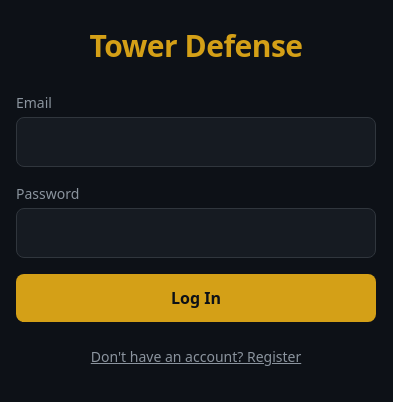
Test case: Login › displays the error message when login fails
Type "alice@example.com" into the field labelled "Email". click: {"x": 196, "y": 142}
box: [16, 117, 376, 167]
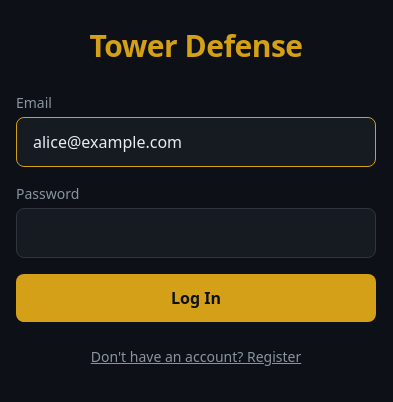
Type "wrong" into the password field labelled "Password". click: {"x": 196, "y": 233}
box: [16, 208, 376, 258]
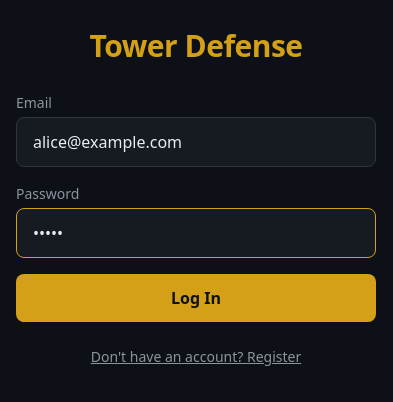
Click the button "Log In". click: {"x": 196, "y": 298}
box: [16, 274, 376, 322]
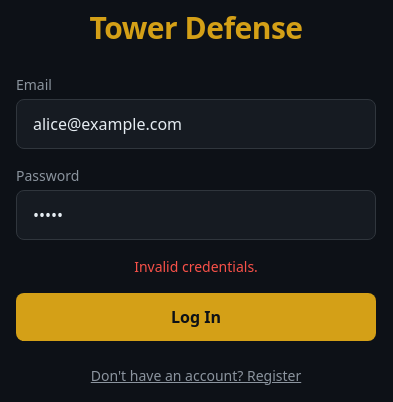
Check: the message reads "Invalid credentials.", box [134, 256, 258, 276]
